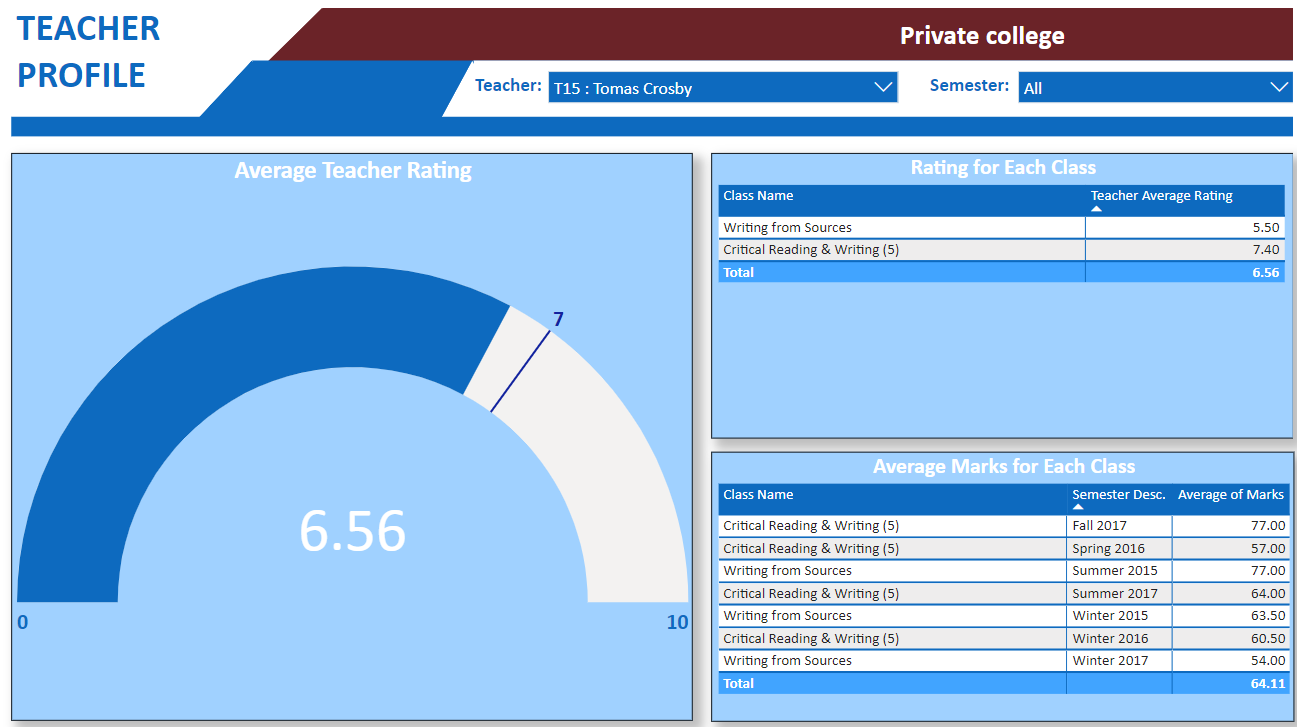

This screenshot's page, from the dashboard's own definition file:
{"tool":"powerbi","page":{"name":"Teacher","canvas":[1280,720],"ordinal":1},"visuals":[{"type":"shape","box":[320,10,950,55],"z":0},{"type":"shape","box":[263.7,9.7,111.6,55],"z":1000},{"type":"textbox","box":[880.2,14.6,389.9,46.9],"z":2000},{"type":"shape","box":[252.4,61,1017.7,58.2],"z":3000},{"type":"shape","box":[197.4,61.5,108.4,58.2],"z":4000},{"type":"textbox","box":[16.2,1.6,236.2,171.5],"z":5000},{"type":"shape","box":[467.6,61,802.5,58.2],"z":6000},{"type":"shape","box":[435.2,61.5,63.1,58.2],"z":7000},{"type":"shape","box":[16,116,1253.9,19.4],"z":8000},{"type":"textbox","box":[465,68,118.1,46.9],"z":9000},{"type":"textbox","box":[910,68,150.5,48.5],"z":10000},{"type":"slicer","fields":{"Values":["tbl_Teacher.Full Name"]},"box":[530.7,61.5,362.4,58.2],"z":11000},{"type":"slicer","fields":{"Values":["tbl_Semester.Semester"]},"box":[990,61,290,74],"z":12000},{"type":"gauge","title":"Average Teacher Rating","fields":{"Y":["tbl_Grades.Teacher Rating"]},"box":[16.2,152.1,666.6,555],"z":13000},{"type":"tableEx","title":"Rating for Each Class","fields":{"Values":["tbl_Class.Class Name","tbl_Grades.Teacher Rating"]},"box":[700.6,152.1,569.5,279],"z":14000},{"type":"tableEx","title":"Average Marks for Each Class","fields":{"Values":["tbl_Class.Class Name","tbl_Semester.Semester","tbl_Grades.Marks"]},"box":[700.6,443.3,571.1,263.7],"z":15000}]}

Visuals, with their boxes in screenshot pixels (x1, y1, x2, y2), scaled from the page's 1280x720 canvas onto the 1297x727 screenshot:
shape: rect(324, 10, 1287, 66)
shape: rect(267, 10, 380, 65)
textbox: rect(892, 15, 1287, 62)
shape: rect(256, 62, 1287, 120)
shape: rect(200, 62, 310, 121)
textbox: rect(16, 2, 256, 175)
shape: rect(474, 62, 1287, 120)
shape: rect(441, 62, 505, 121)
shape: rect(16, 117, 1287, 137)
textbox: rect(471, 69, 591, 116)
textbox: rect(922, 69, 1075, 118)
slicer - tbl_Teacher.Full Name: rect(538, 62, 905, 121)
slicer - tbl_Semester.Semester: rect(1003, 62, 1296, 136)
"Average Teacher Rating" gauge: rect(16, 154, 692, 714)
"Rating for Each Class" tableEx: rect(710, 154, 1287, 435)
"Average Marks for Each Class" tableEx: rect(710, 448, 1289, 714)
